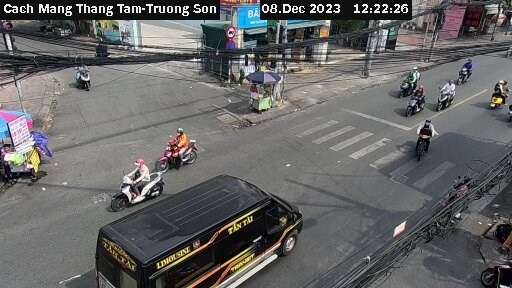car: (92, 175, 308, 288)
motorbike: (143, 125, 208, 183), (107, 160, 161, 219), (402, 122, 447, 169), (437, 82, 472, 115), (392, 87, 430, 117), (70, 61, 102, 91), (489, 76, 512, 117), (453, 53, 476, 84), (399, 67, 425, 93)
